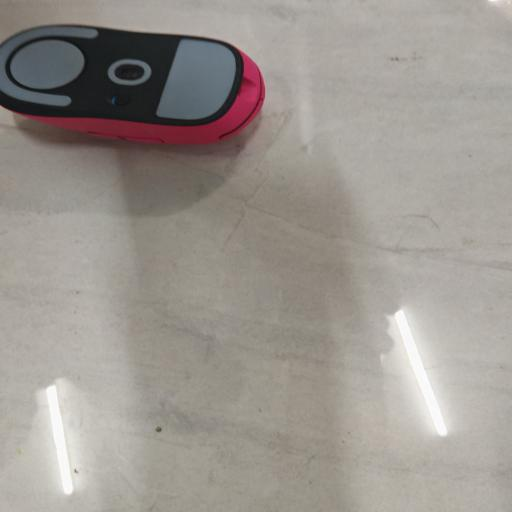mouse: (0, 25, 265, 144)
